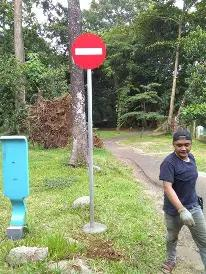Stop: (71, 34, 107, 69)
